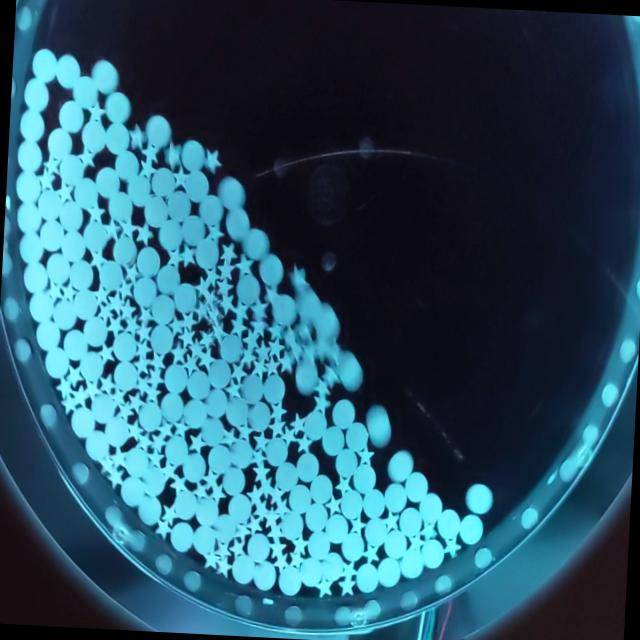disco blanco: (364, 403, 394, 451), (312, 302, 344, 342), (338, 352, 368, 393), (88, 58, 120, 94), (456, 509, 486, 547), (464, 481, 496, 516), (104, 89, 134, 126), (144, 114, 174, 150), (240, 224, 270, 260), (219, 174, 247, 212), (388, 447, 416, 485), (179, 136, 207, 174), (294, 360, 322, 397), (270, 292, 300, 326), (258, 250, 284, 288), (330, 396, 358, 430), (296, 286, 321, 324), (344, 418, 370, 454), (234, 272, 261, 306), (405, 469, 430, 504), (435, 507, 461, 539), (224, 208, 249, 240), (418, 491, 443, 522)
estrella blanca: (140, 140, 166, 170), (168, 160, 192, 192), (201, 145, 224, 176), (136, 218, 158, 249), (191, 272, 214, 300), (288, 262, 310, 291), (76, 144, 100, 170), (128, 119, 148, 150), (278, 350, 300, 378), (135, 154, 158, 180), (321, 362, 344, 388), (86, 98, 107, 126), (293, 430, 316, 455), (41, 153, 64, 178), (217, 239, 239, 265), (250, 297, 272, 323), (230, 298, 252, 324), (164, 137, 182, 168), (334, 472, 357, 496), (261, 352, 283, 377), (86, 201, 108, 226), (242, 326, 262, 353), (290, 410, 310, 437), (177, 244, 199, 268), (54, 180, 76, 204), (206, 218, 226, 244), (312, 391, 332, 417), (101, 217, 122, 241), (234, 252, 254, 276), (218, 259, 238, 283), (202, 266, 222, 290), (229, 316, 249, 340), (280, 324, 300, 348), (382, 508, 402, 532), (224, 376, 242, 402), (191, 298, 209, 324), (358, 444, 377, 468), (268, 335, 286, 360), (214, 276, 233, 298), (220, 290, 234, 316), (272, 402, 288, 424)
